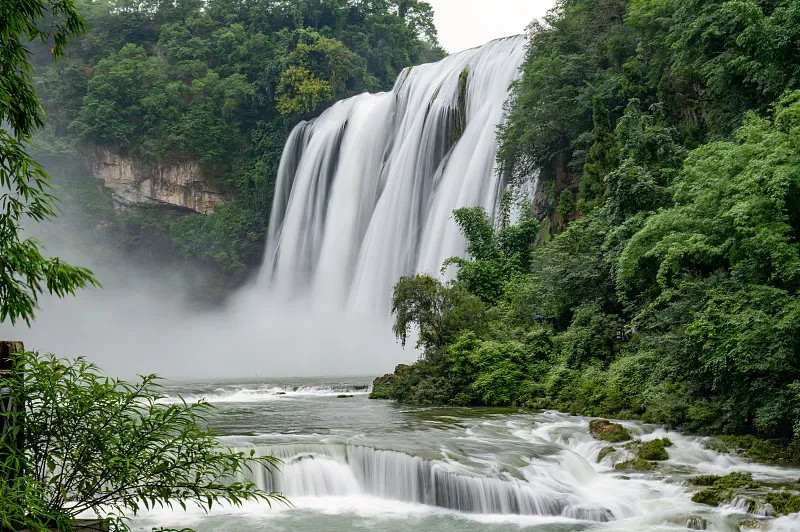Huangguoshu: (252, 34, 538, 375)
